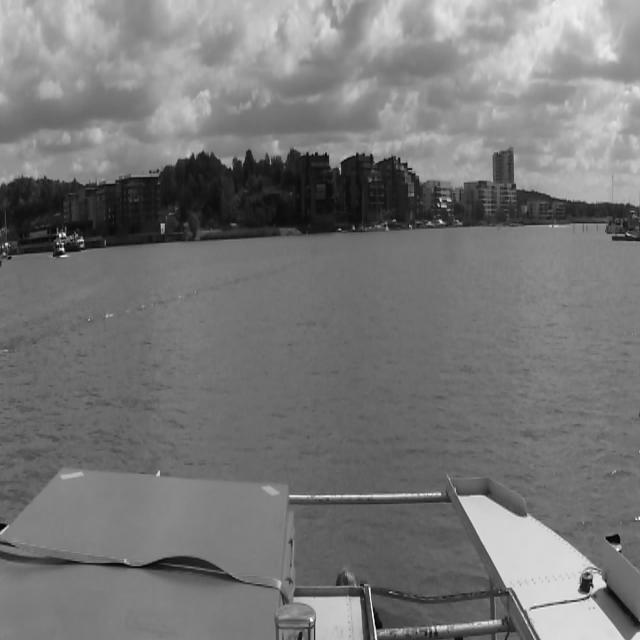ship: (64, 228, 86, 252), (52, 241, 64, 259)
